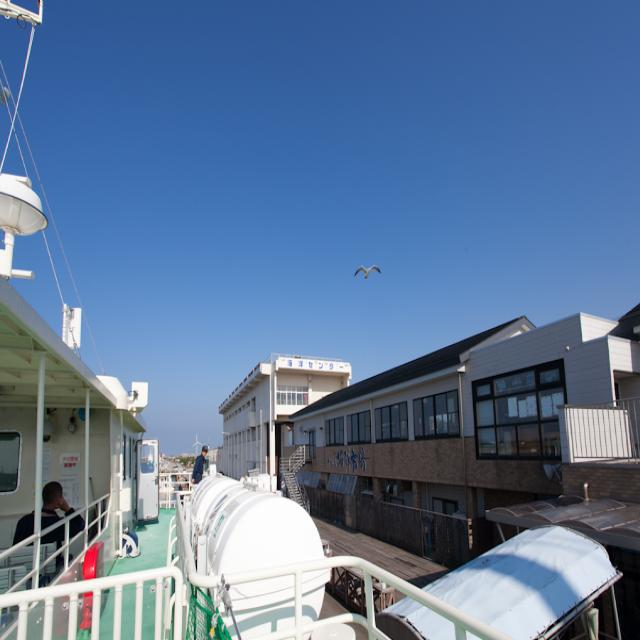bird: (41, 481, 79, 520), (352, 266, 383, 281)
